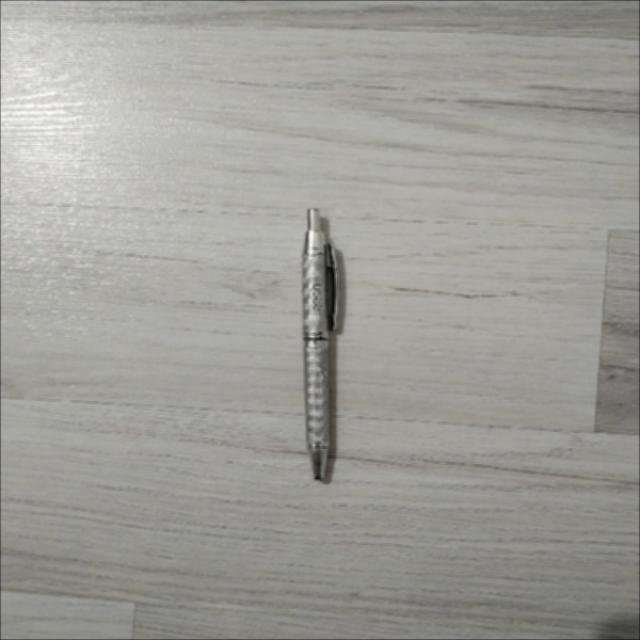signature pen: (302, 209, 338, 481)
